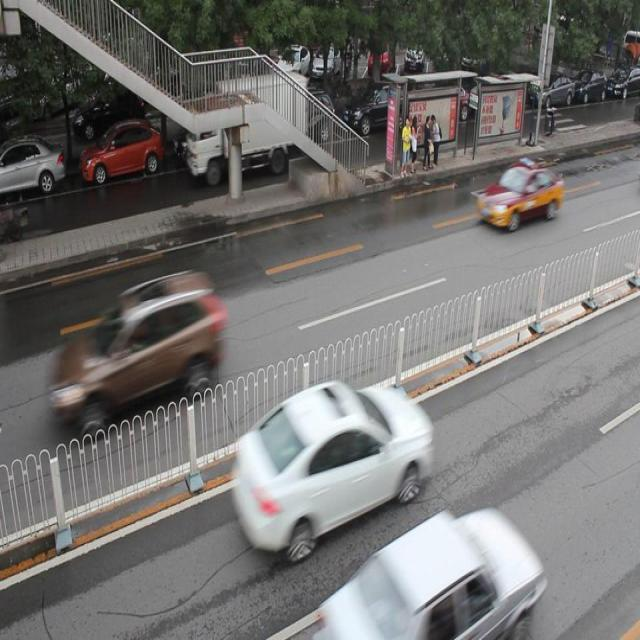bus: (184, 70, 308, 188)
car: (236, 379, 432, 563), (48, 274, 226, 434), (319, 514, 543, 640), (475, 154, 562, 231), (174, 106, 268, 170), (80, 122, 164, 183), (267, 81, 332, 149), (340, 79, 411, 139), (1, 138, 66, 197)
